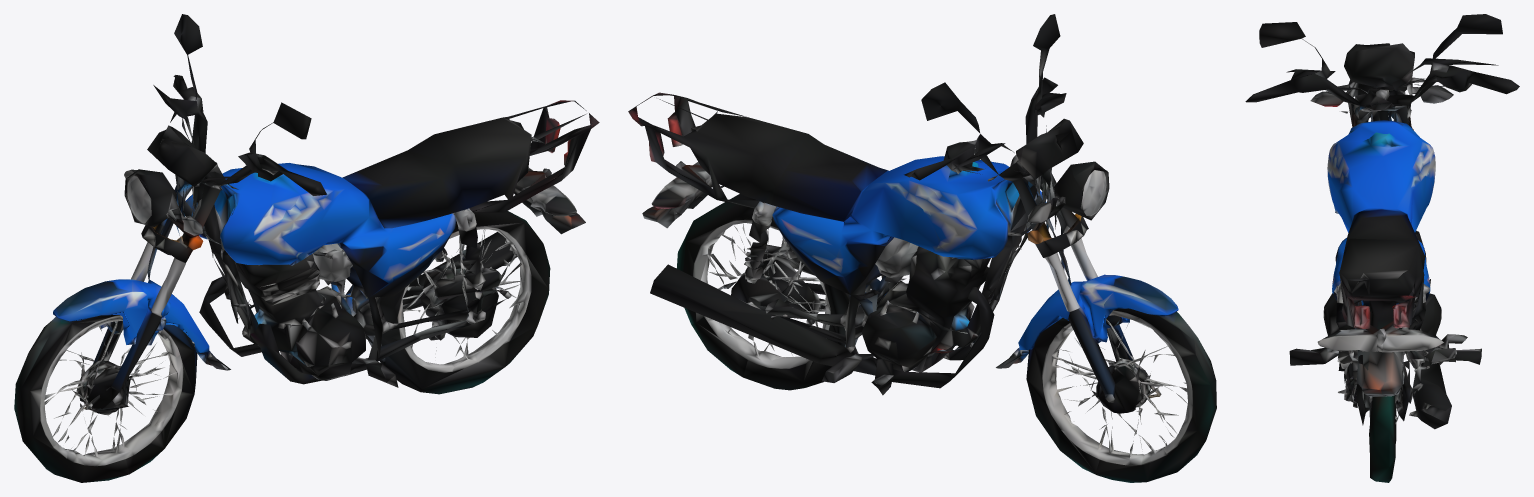
File: moto-azul.glb
3 renders of one model, left to right at view 1: azimuth 30°, elevation 25°; view 2: azimuth 150°, elevation 25°; view 3: azimuth 270°, elevation 25°, orthographic. The views are drawn at different scales.
Bounding box in the file's own units: 1.89 × 1.24 × 0.8419.
